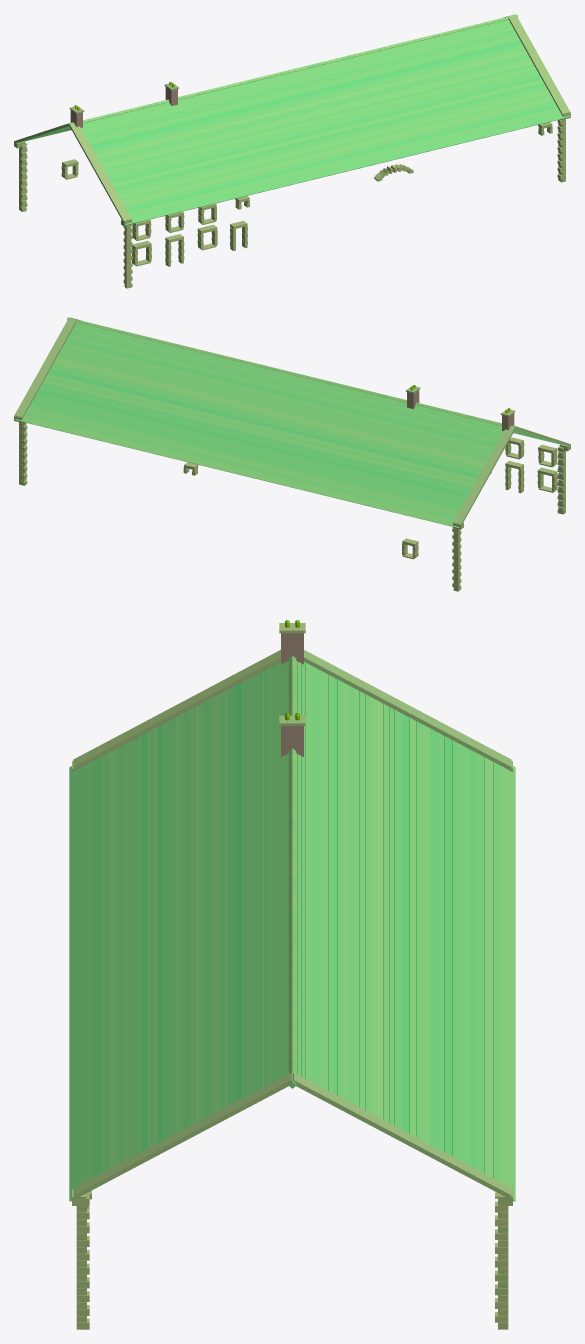
The model's file is SM_Bld_060_Stone.glb.
The picture shows the model from 3 angles, top to bottom: view 1: azimuth 30°, elevation 25°; view 2: azimuth 150°, elevation 25°; view 3: azimuth 270°, elevation 25°; orthographic projection. The views are drawn at different scales.
Visible parts, largest first — view 1: SM_Bld_060_Stone; view 2: SM_Bld_060_Stone; view 3: SM_Bld_060_Stone.
Boxes of the visible parts, x1,y1,x2,y2 form: SM_Bld_060_Stone: (14, 14, 570, 288); SM_Bld_060_Stone: (14, 317, 570, 591); SM_Bld_060_Stone: (69, 620, 515, 1329).
Bounding box in the file's own units: 40.85 × 12.36 × 17.61.
